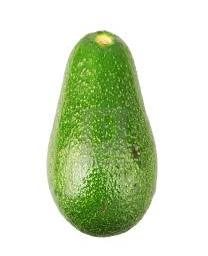avocado: (47, 29, 159, 238)
